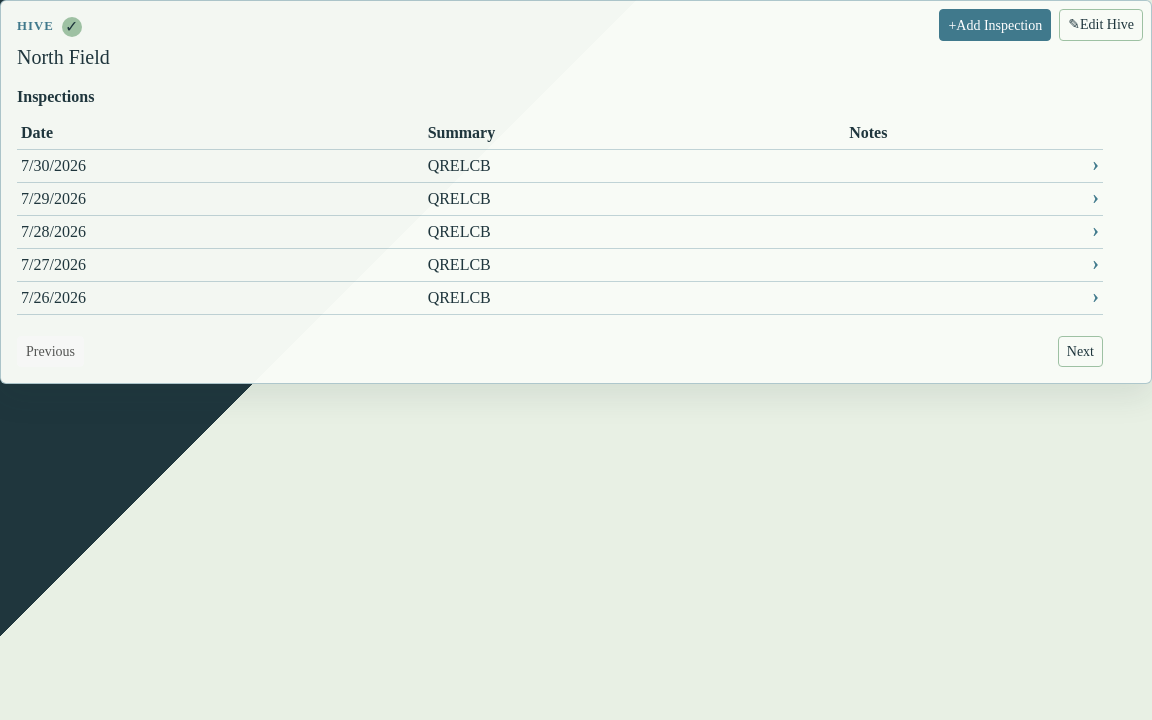
it: HiveCardComponent › supports legacy client-side pagination in groups of five
This screenshot has width=1152, height=720.
Expected: the text "7/25/2026" is not shown
Expected: the button with aria-label "Previous inspections for hive card 1" is disabled, [17,336,84,367]
# when the next page is requested
Step 1. Click the button with aria-label "Next inspections for hive card 1" → (1080, 352), box [1058,336,1103,367]
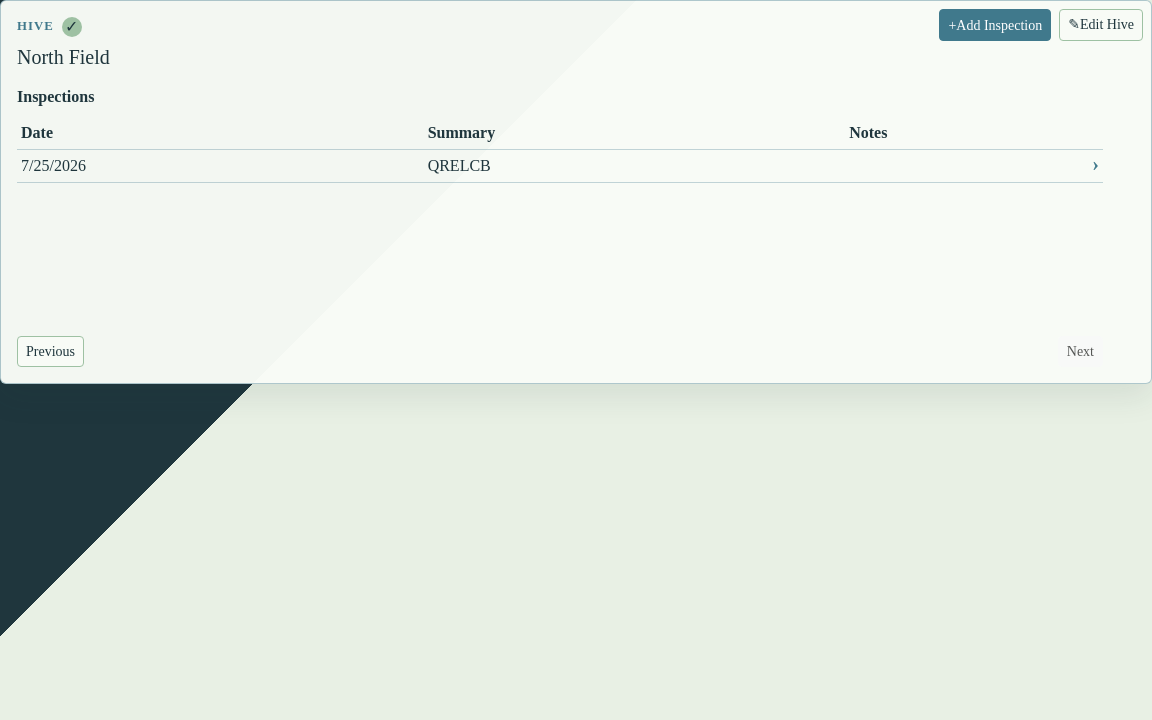
Expected: the text "7/25/2026" is shown, [17,150,424,182]
Expected: the button with aria-label "Previous inspections for hive card 1" is enabled, [17,336,84,367]
Expected: the button with aria-label "Next inspections for hive card 1" is disabled, [1058,336,1103,367]
